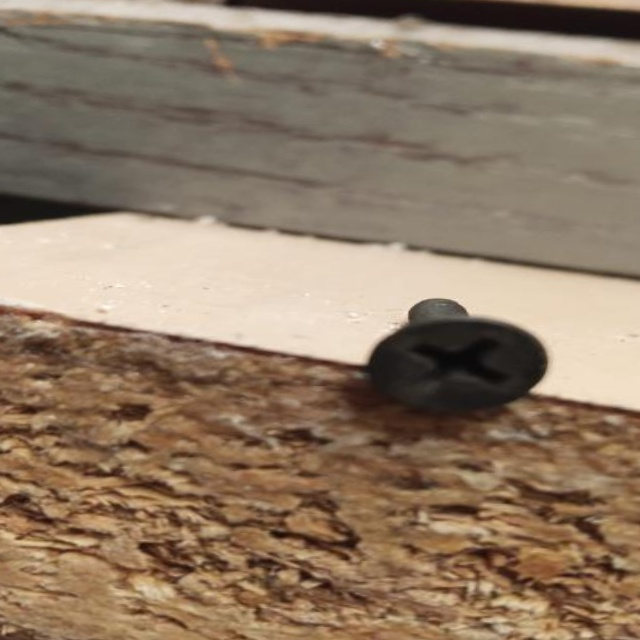phillips: (359, 317, 553, 418)
